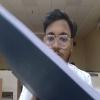notebook: (0, 1, 99, 99)
